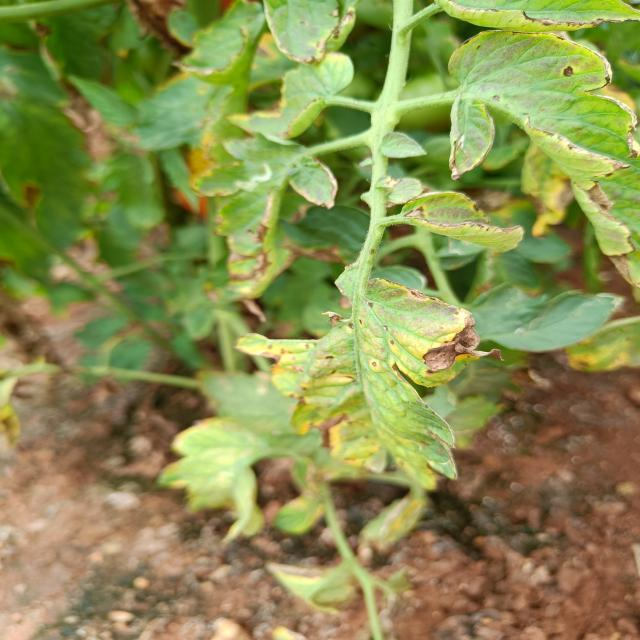Tomato mosaic virus leaf: (233, 274, 513, 500), (438, 34, 640, 182), (400, 188, 532, 259)
